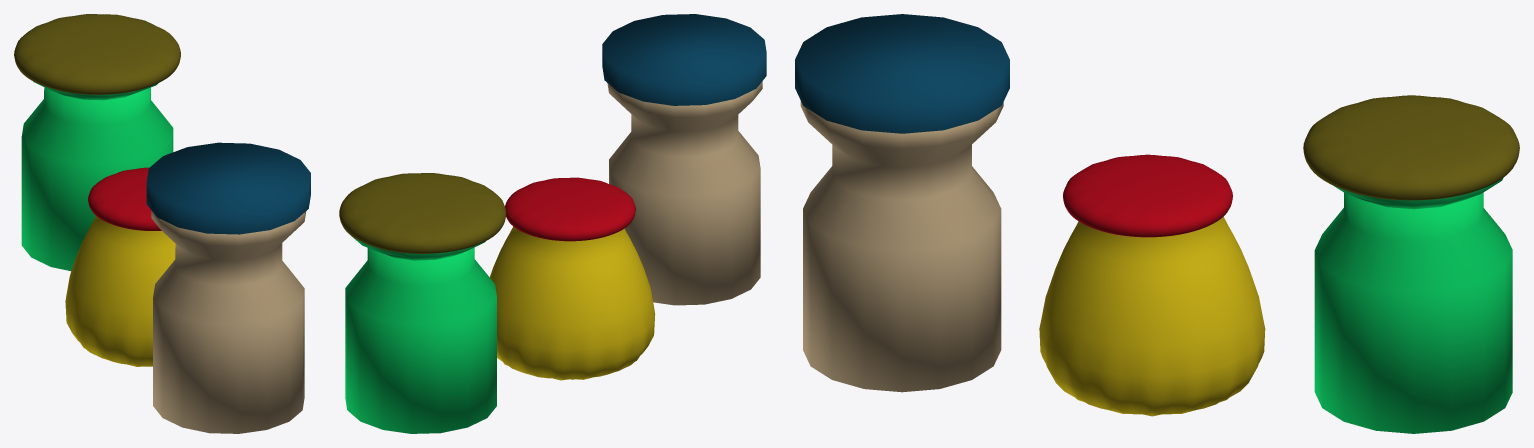
Rendered from jar.fbx.
3 views of the same model, side by side, from view 1: azimuth 30°, elevation 25°; view 2: azimuth 150°, elevation 25°; view 3: azimuth 270°, elevation 25° (orthographic). The views are drawn at different scales.
Visible parts, largest first — view 1: Cylinder.001, Cylinder.003, Circle, Cylinder.002, Circle.001, Circle.002; view 2: Cylinder.003, Cylinder.001, Cylinder.002, Circle, Circle.001, Circle.002; view 3: Cylinder.001, Cylinder.003, Cylinder.002, Circle, Circle.001, Circle.002.
Part boxes in pixels (<box>): Cylinder.001: <box>151,210,306,433</box>; Cylinder.003: <box>21,81,173,270</box>; Circle: <box>146,142,310,234</box>; Cylinder.002: <box>65,216,175,366</box>; Circle.001: <box>14,14,180,94</box>; Circle.002: <box>88,167,161,230</box>; Cylinder.003: <box>345,236,496,433</box>; Cylinder.001: <box>607,81,762,305</box>; Cylinder.002: <box>489,226,655,380</box>; Circle: <box>602,14,766,105</box>; Circle.001: <box>339,173,506,253</box>; Circle.002: <box>505,177,635,241</box>; Cylinder.001: <box>800,101,1003,392</box>; Cylinder.003: <box>1314,178,1512,433</box>; Cylinder.002: <box>1039,216,1265,416</box>; Circle: <box>795,14,1009,133</box>; Circle.001: <box>1303,95,1519,200</box>; Circle.002: <box>1063,154,1232,237</box>.
Bounding box in the file's own units: 3.16 × 3.65 × 7.32.
